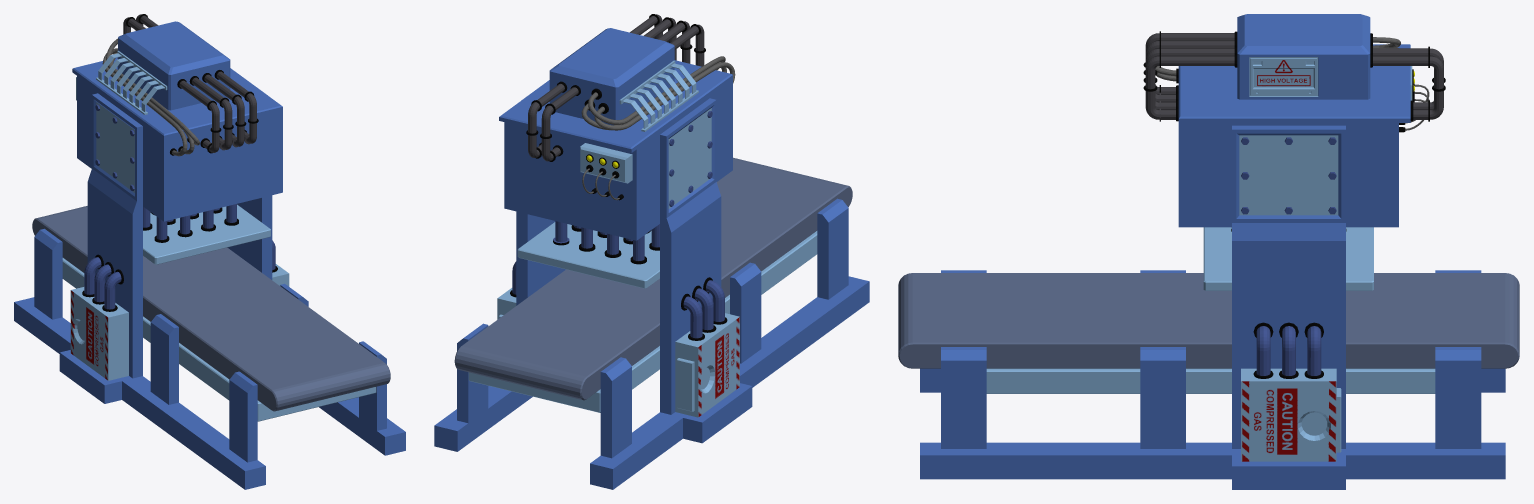
The model's file is M5_Style_B_Light.fbx.
3 renders of one model, left to right at view 1: azimuth 30°, elevation 25°; view 2: azimuth 150°, elevation 25°; view 3: azimuth 270°, elevation 25°, orthographic. The views are drawn at different scales.
Parts seen in each view (by area): view 1: M5; view 2: M5; view 3: M5.
Boxes of the visible parts, box(x1,y1,x2,y2) form: M5: box(14, 14, 405, 489); M5: box(434, 14, 869, 489); M5: box(898, 14, 1519, 489).
Size of the model in its own units: 248 by 382 by 538.
